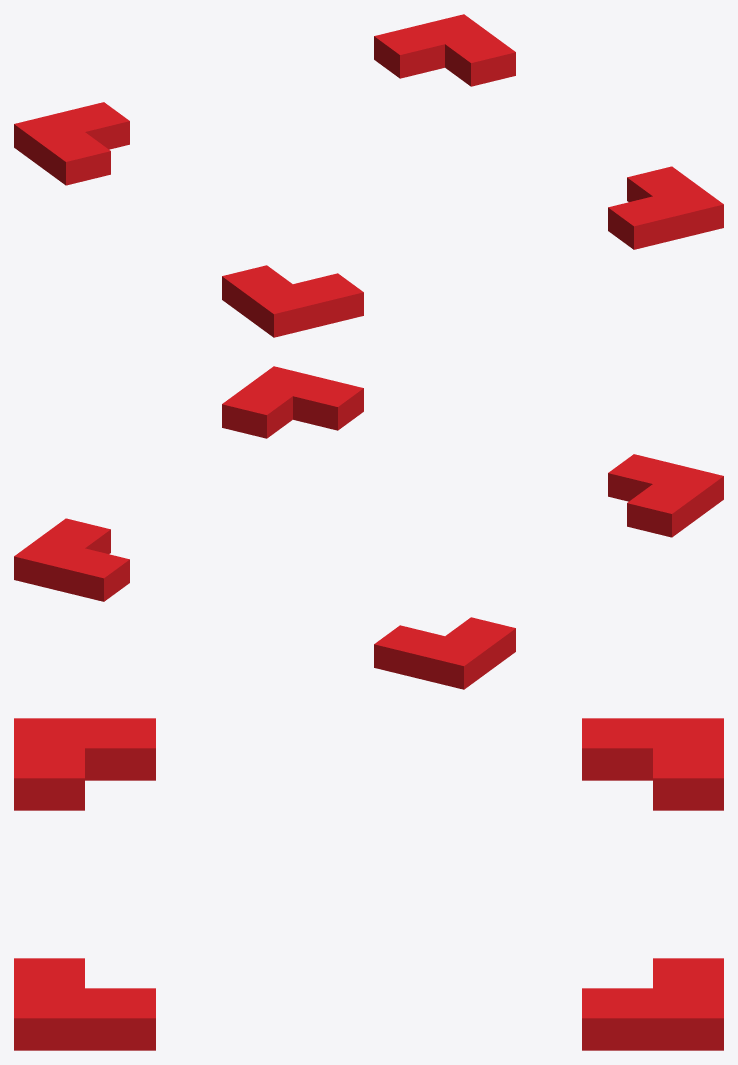
File: cursor.obj
3 renders of one model, top to bottom at view 1: azimuth 30°, elevation 25°; view 2: azimuth 150°, elevation 25°; view 3: azimuth 270°, elevation 25°, orthographic. The views are drawn at different scales.
Parts seen in each view (by area): view 1: Cube.001; view 2: Cube.001; view 3: Cube.001.
Boxes of the visible parts, x1,y1,x2,y2 form: Cube.001: (14,14,723,337); Cube.001: (14,366,723,689); Cube.001: (14,718,723,1050).
Size of the model in its own units: 2 by 0.1 by 2.
1 material, 1 textured.
